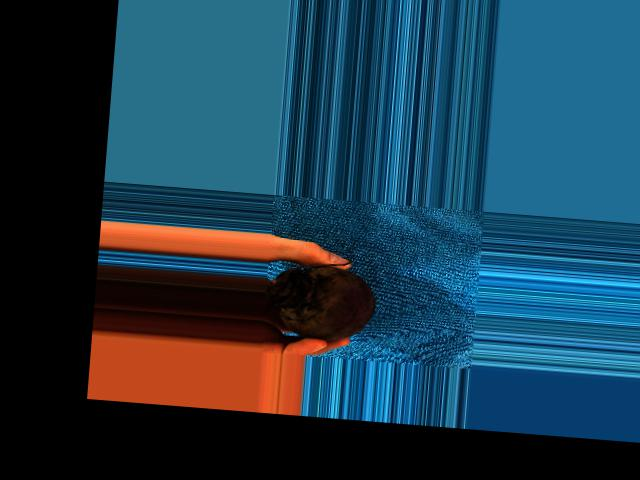beet: (264, 252, 378, 343)
